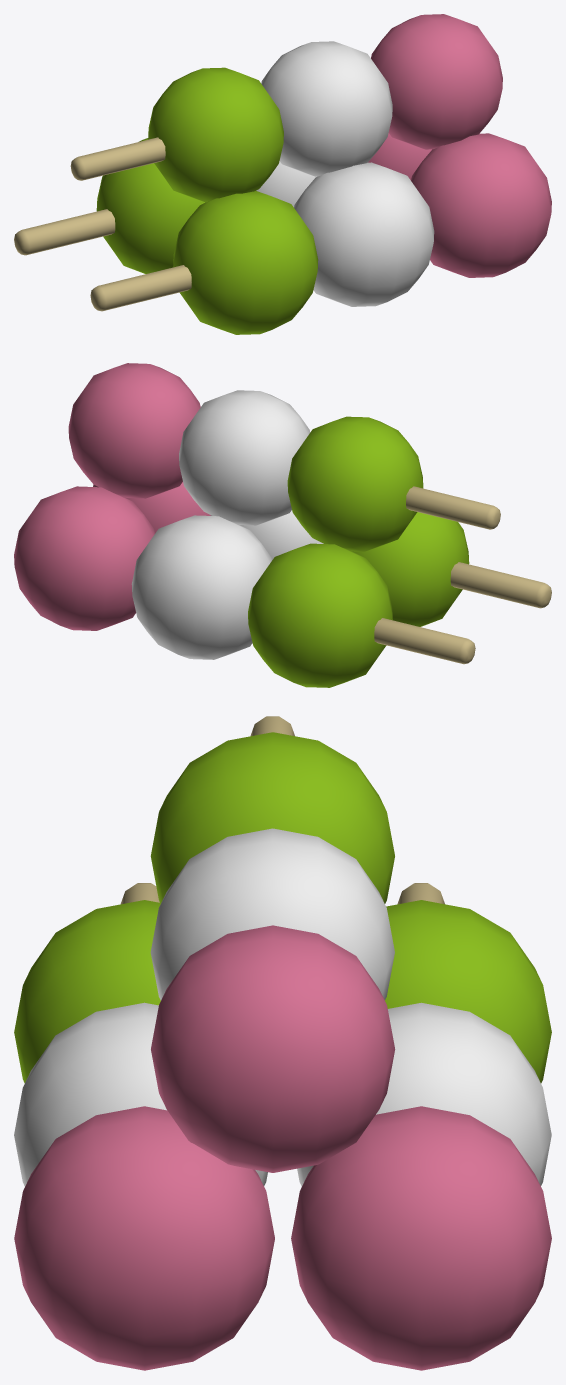
Rendered from Dango.glb.
3 renders of one model, top to bottom at view 1: azimuth 30°, elevation 25°; view 2: azimuth 150°, elevation 25°; view 3: azimuth 270°, elevation 25°, orthographic. The views are drawn at different scales.
Visible parts, largest first — view 1: Food_Dango; view 2: Food_Dango; view 3: Food_Dango.
Boxes of the visible parts, bbox=[...] form: Food_Dango: bbox=[14, 14, 551, 334]; Food_Dango: bbox=[14, 363, 551, 687]; Food_Dango: bbox=[14, 716, 551, 1370].
Size of the model in its own units: 0.9144 by 0.4429 by 0.5256.
Materials: 1 (1 with a texture image).
